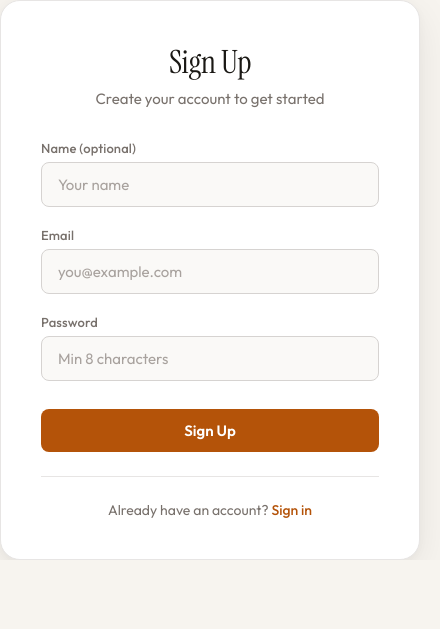
Test: SignUpPage › displays fallback error message for unexpected errors
In the field labelled "Email": (210, 272) [41,249,379,294], type "a@b.com"
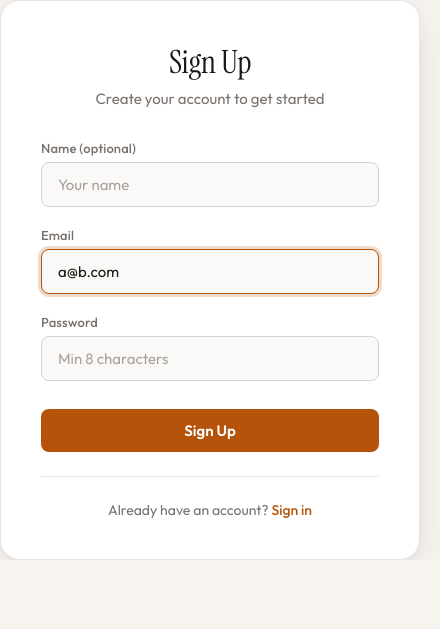
In the password field labelled "Password": (210, 358) [41,336,379,381], type "password123"
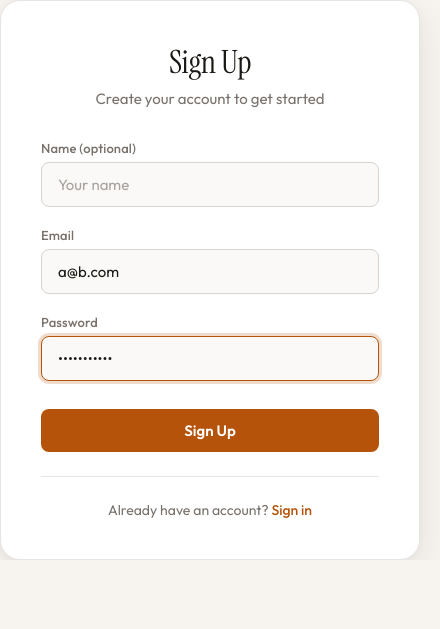
Click the button "Sign Up": (210, 430) [41,409,379,452]
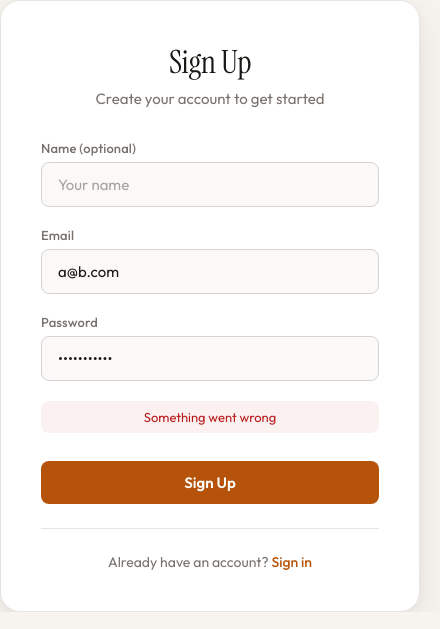
Expected: the text "Something went wrong" is shown, [41,401,379,433]
